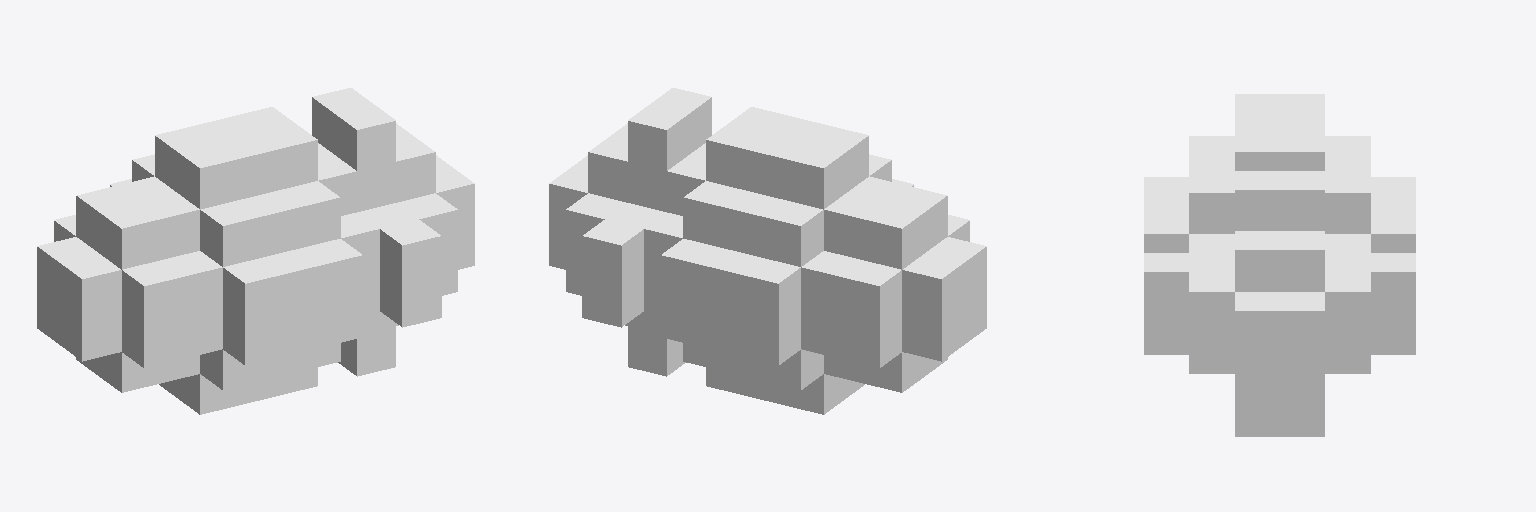
The model's file is Projectile_Carro_Presente.obj.
3 renders of one model, left to right at view 1: azimuth 30°, elevation 25°; view 2: azimuth 150°, elevation 25°; view 3: azimuth 270°, elevation 25°, orthographic.
Parts seen in each view (by area): view 1: object 1; view 2: object 1; view 3: object 1.
Boxes of the visible parts, box(x1,y1,x2,y2) form: object 1: box(37, 88, 474, 414); object 1: box(549, 88, 986, 414); object 1: box(1144, 94, 1415, 436).
Size of the model in its own units: 1 by 0.6 by 0.6.